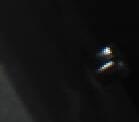screw: (85, 43, 130, 88)
